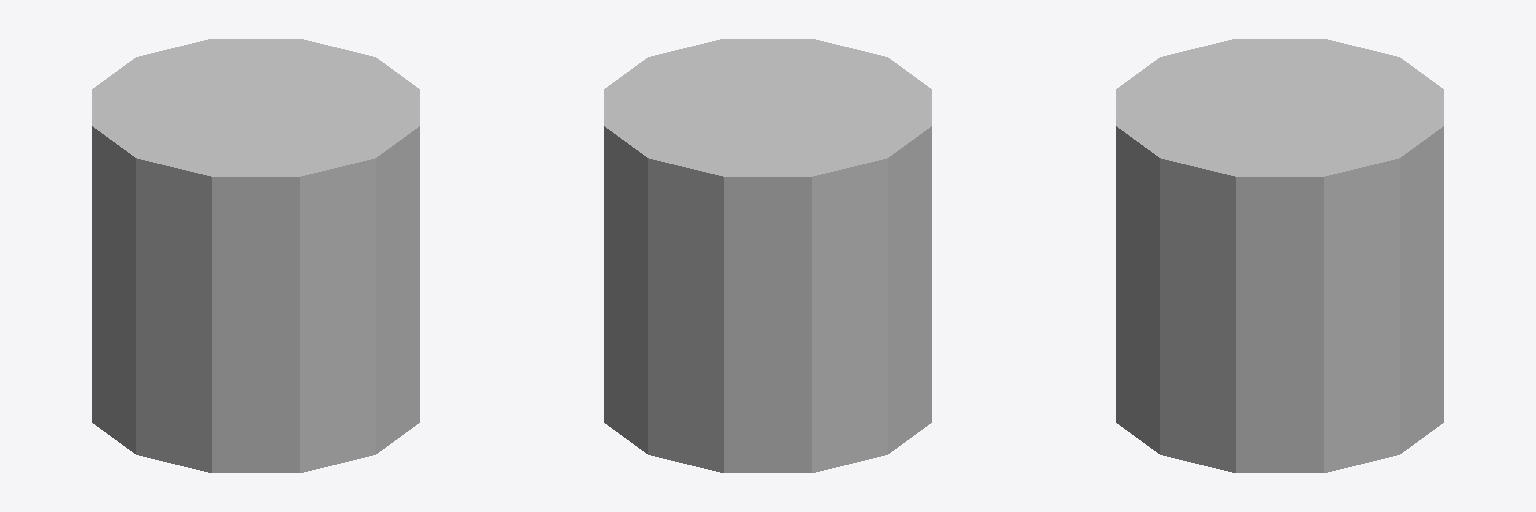
Rendered from osgiliath_pillar_1.obj.
3 views of the same model, side by side, from view 1: azimuth 30°, elevation 25°; view 2: azimuth 150°, elevation 25°; view 3: azimuth 270°, elevation 25° (orthographic).
Parts seen in each view (by area): view 1: cylinder; view 2: cylinder; view 3: cylinder.
Part boxes in pixels (bbox=[...]): cylinder: bbox=[92, 39, 419, 472]; cylinder: bbox=[604, 39, 931, 472]; cylinder: bbox=[1116, 39, 1443, 472].
Bounding box in the file's own units: 1 × 1 × 1.